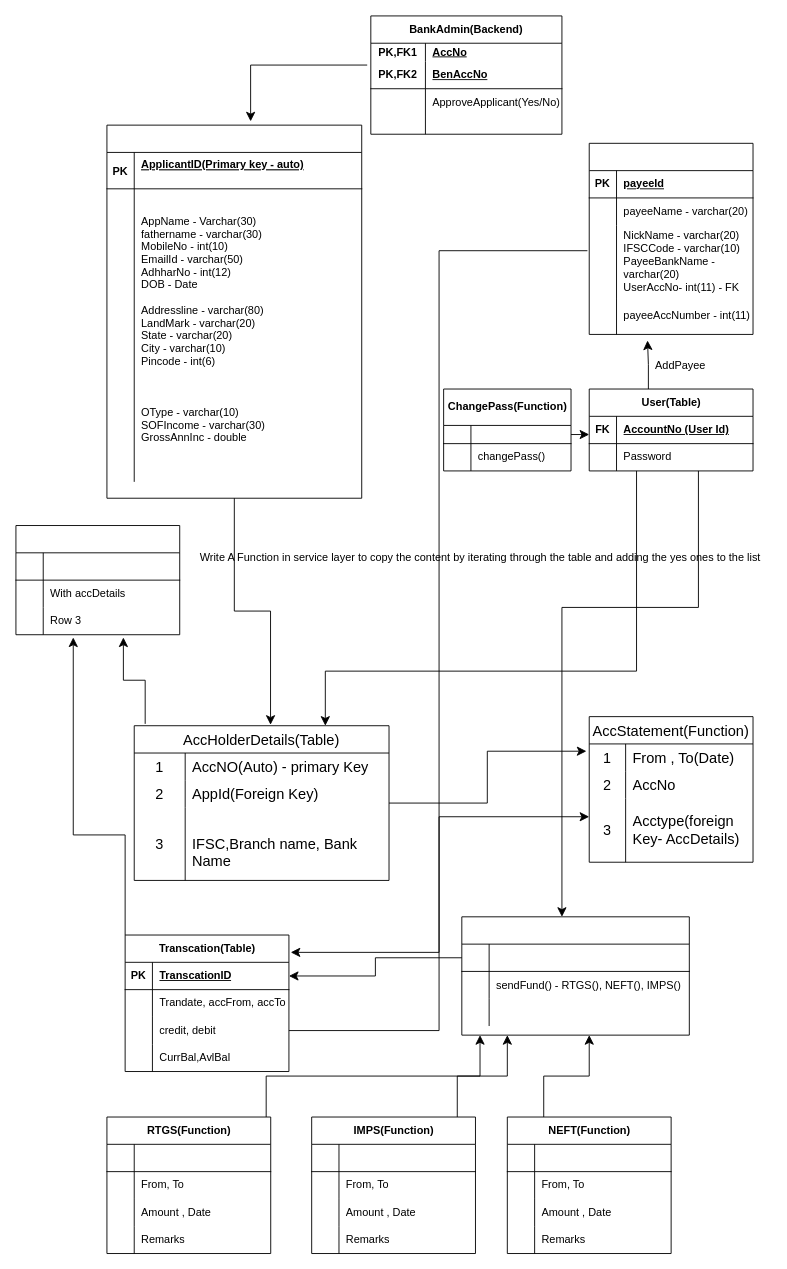
This 787x1269 diagram has some shape labels left out. Each missing label, with the box of its shape:
AccAppl(Table): (106, 124, 362, 498)
AccSummary(Function): (15, 525, 180, 635)
FundTransfer(Function): (461, 916, 689, 1035)
Payee(Table): (588, 142, 753, 334)
